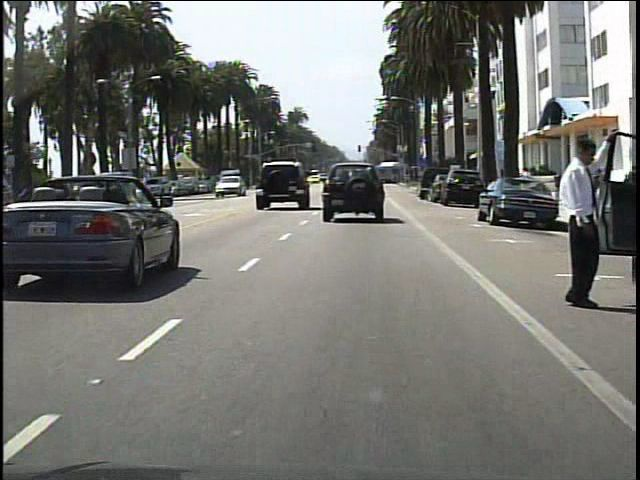person: (547, 126, 606, 322)
